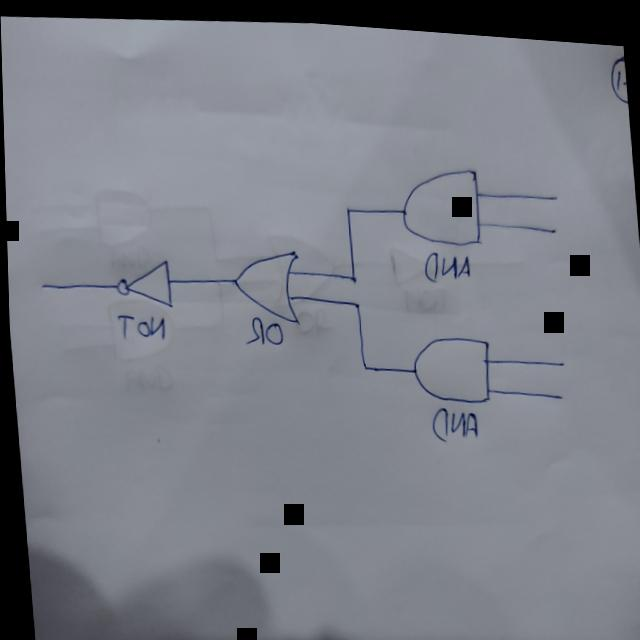junction: (356, 351, 369, 370), (341, 196, 354, 212), (347, 266, 359, 282), (352, 293, 361, 305)
terminal: (33, 277, 54, 295), (546, 214, 560, 231), (548, 182, 561, 198), (553, 381, 566, 396), (556, 350, 567, 362)
text: (428, 396, 481, 442), (112, 305, 165, 343), (421, 242, 472, 279), (243, 311, 284, 345)
